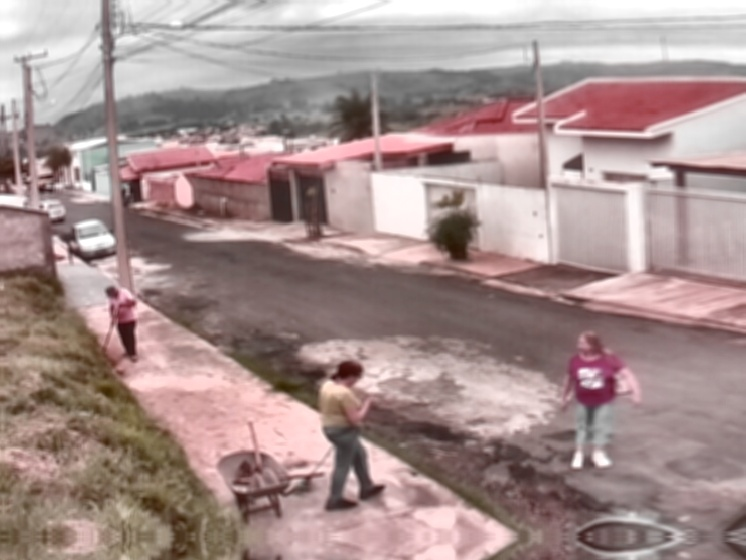person: (560, 329, 643, 471), (318, 360, 387, 511), (102, 284, 140, 361)
